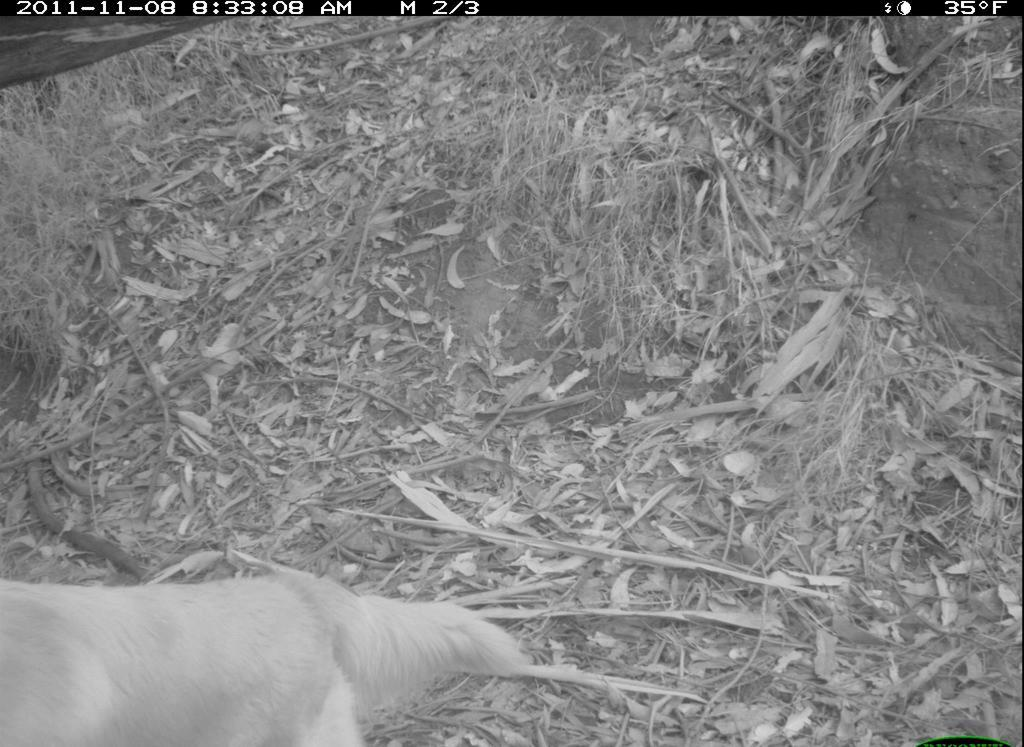dog: (7, 556, 536, 747)
